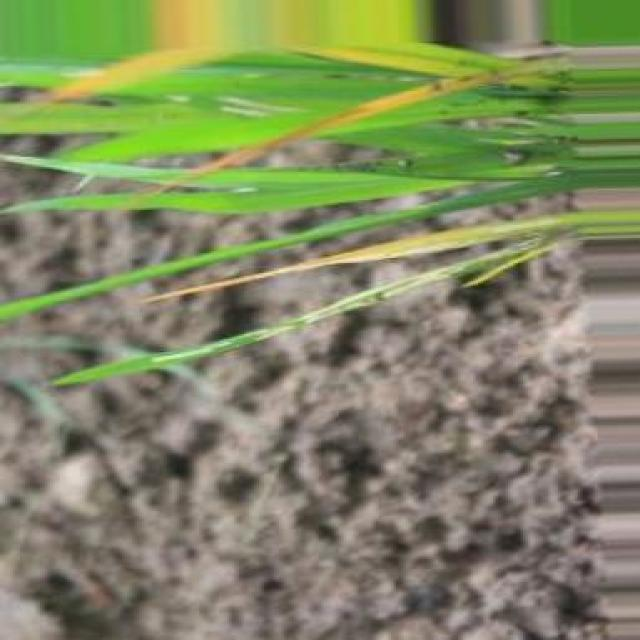Rice Tungro: (145, 211, 640, 302), (192, 77, 499, 174)
